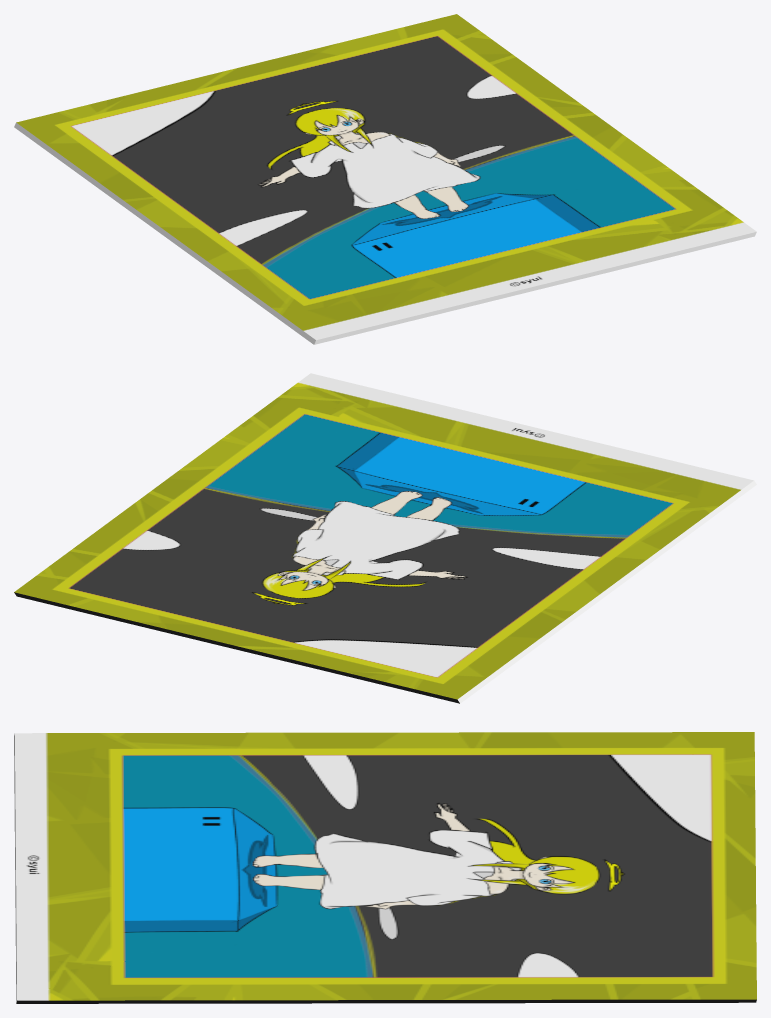
File: card_13.glb
3 views of the same model, one above another, from view 1: azimuth 30°, elevation 25°; view 2: azimuth 150°, elevation 25°; view 3: azimuth 270°, elevation 25° (orthographic). The views are drawn at different scales.
Visible parts, largest first — view 1: Object_2; view 2: Object_2; view 3: Object_2.
Part boxes in pixels (x1,y1,x2,y2): Object_2: [14, 14, 756, 344]; Object_2: [14, 373, 756, 703]; Object_2: [14, 732, 756, 1003].
Size of the model in its own units: 5.14 by 0.0425 by 5.98.
3 materials, 3 textured.
